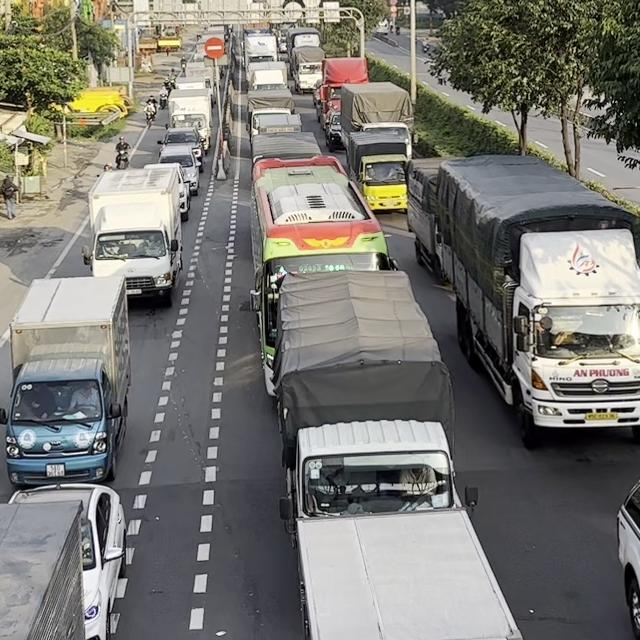bus: (249, 163, 395, 366)
car: (5, 482, 127, 639)
motorcycle: (114, 146, 130, 169), (143, 104, 156, 128)
truck: (264, 268, 479, 548), (435, 153, 639, 444), (0, 273, 131, 487), (80, 166, 184, 303), (405, 155, 458, 285), (339, 80, 414, 161), (344, 131, 412, 213), (312, 56, 369, 127), (166, 88, 212, 153), (246, 87, 295, 133)
